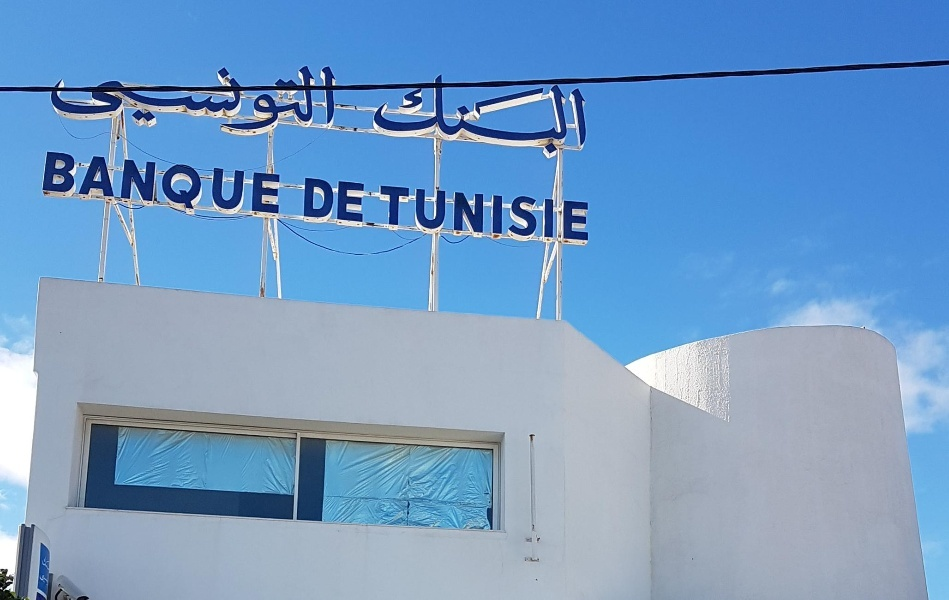text: (385, 73, 400, 161), (401, 73, 416, 161), (417, 73, 432, 161), (433, 73, 448, 161), (449, 73, 464, 161), (465, 73, 480, 161), (481, 73, 496, 161), (497, 73, 512, 161), (513, 73, 528, 161), (529, 73, 544, 161), (545, 73, 560, 161), (561, 73, 576, 161), (577, 73, 591, 161), (372, 73, 384, 161), (49, 150, 64, 217), (65, 150, 80, 217), (81, 150, 96, 217), (97, 150, 112, 217), (113, 150, 128, 217), (129, 150, 144, 217), (145, 150, 160, 217), (161, 150, 176, 217), (177, 150, 192, 217), (193, 150, 208, 217), (209, 150, 224, 217), (225, 150, 240, 217), (241, 150, 256, 217), (257, 150, 272, 217), (49, 66, 64, 132), (65, 66, 80, 132), (81, 66, 96, 132), (97, 66, 112, 132), (113, 66, 128, 132), (129, 66, 144, 132), (145, 66, 160, 132), (161, 66, 176, 132), (177, 66, 192, 132), (193, 66, 208, 132), (209, 66, 224, 132), (225, 66, 240, 132), (241, 66, 256, 132), (257, 66, 272, 132), (273, 66, 288, 132), (289, 66, 304, 132), (305, 66, 320, 132), (321, 66, 336, 132), (385, 185, 400, 244), (401, 185, 416, 244), (417, 185, 432, 244), (433, 185, 448, 244), (449, 185, 464, 244), (465, 185, 480, 244), (481, 185, 496, 244), (497, 185, 512, 244), (513, 185, 528, 244), (529, 185, 544, 244), (545, 185, 560, 244), (561, 185, 576, 244), (577, 185, 591, 244), (273, 150, 284, 217), (305, 177, 320, 224), (321, 177, 336, 224), (337, 177, 352, 224), (353, 177, 363, 224), (378, 185, 384, 244), (45, 150, 48, 217), (39, 569, 48, 590), (41, 552, 48, 575), (49, 552, 55, 575), (49, 569, 55, 590), (303, 177, 304, 224)
